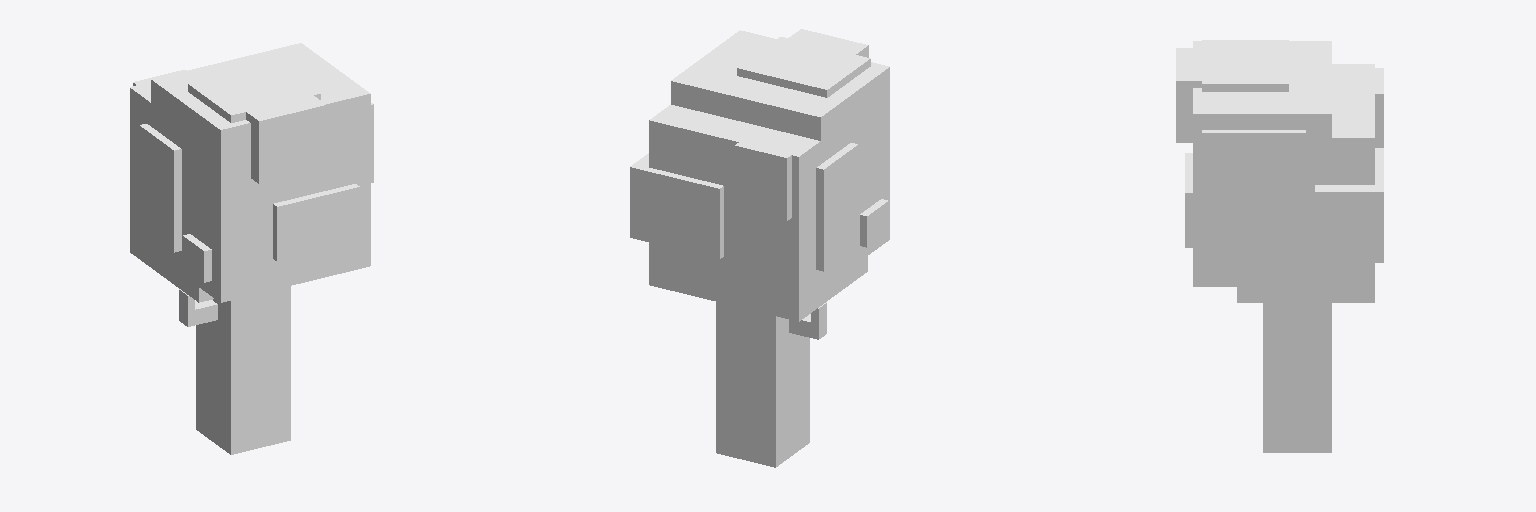
File: tree_orange.obj
The picture shows the model from 3 angles: view 1: azimuth 30°, elevation 25°; view 2: azimuth 150°, elevation 25°; view 3: azimuth 270°, elevation 25°; orthographic projection.
Visible parts, largest first — view 1: object 1; view 2: object 1; view 3: object 1.
Part boxes in pixels (x1,y1,x2,y2): object 1: (130, 43, 373, 454); object 1: (630, 29, 889, 467); object 1: (1176, 40, 1383, 452).
Bounding box in the file's own units: 2.3 × 4.7 × 2.4.